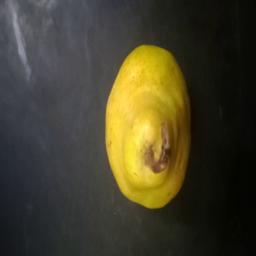Pear Semifresh: (100, 40, 198, 216)
